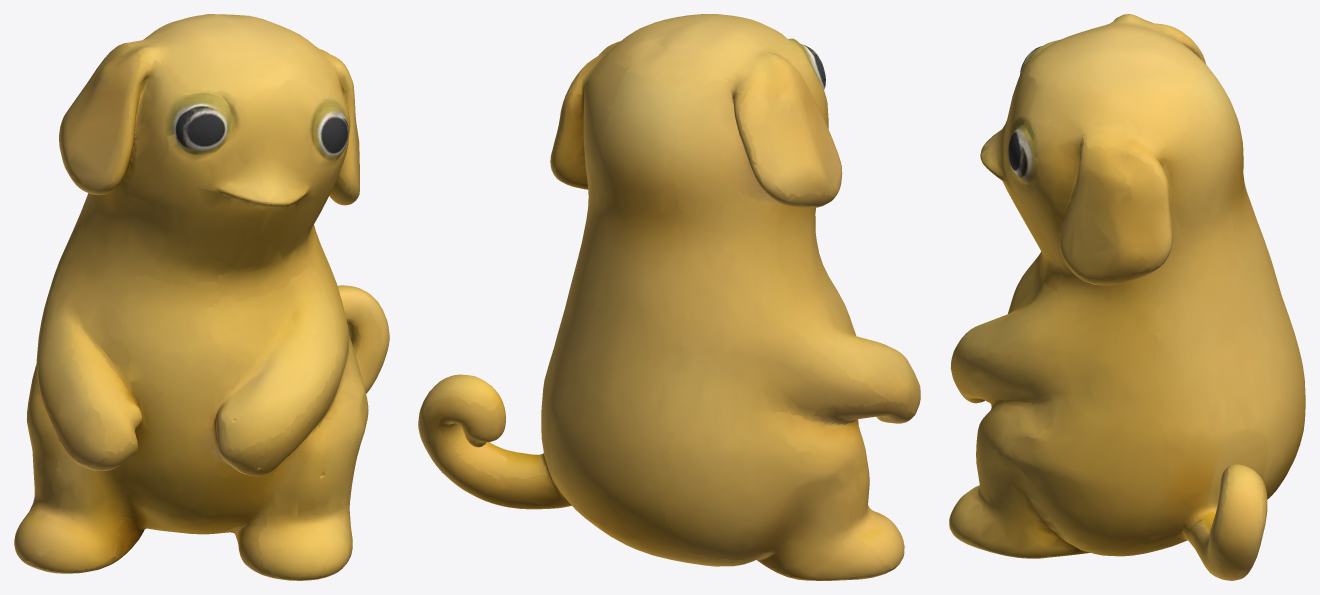
File: naiwa_naigou_runtime.glb
3 views of the same model, side by side, from view 1: azimuth 30°, elevation 25°; view 2: azimuth 150°, elevation 25°; view 3: azimuth 270°, elevation 25° (orthographic). The views are drawn at different scales.
Visible parts, largest first — view 1: geometry_0; view 2: geometry_0; view 3: geometry_0.
Boxes of the visible parts, bbox=[...] form: geometry_0: bbox=[14, 14, 389, 580]; geometry_0: bbox=[418, 14, 920, 580]; geometry_0: bbox=[949, 14, 1305, 580].
Size of the model in its own units: 0.1326 by 0.15 by 0.0999.
1 material, 1 textured.
